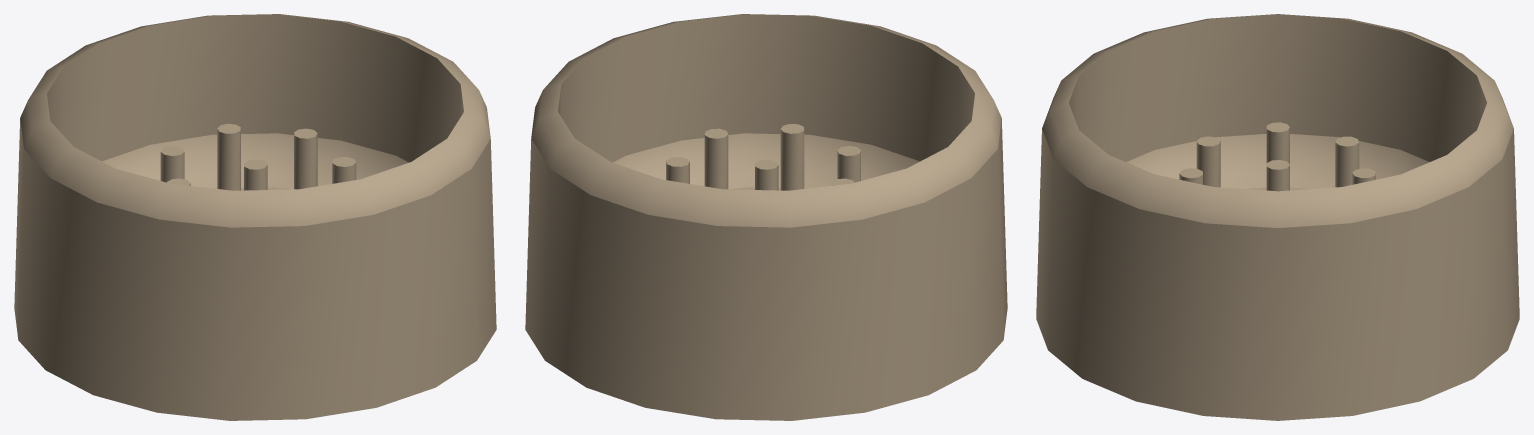
The model's file is PotarType3.fbx.
3 views of the same model, side by side, from view 1: azimuth 30°, elevation 25°; view 2: azimuth 150°, elevation 25°; view 3: azimuth 270°, elevation 25° (orthographic).
Parts seen in each view (by area): view 1: Potar9; view 2: Potar9; view 3: Potar9.
Boxes of the visible parts, x1,y1,x2,y2 form: Potar9: (14,14,496,420); Potar9: (525,14,1007,420); Potar9: (1036,14,1519,420).
Bounding box in the file's own units: 6.35 × 3.13 × 6.35.
